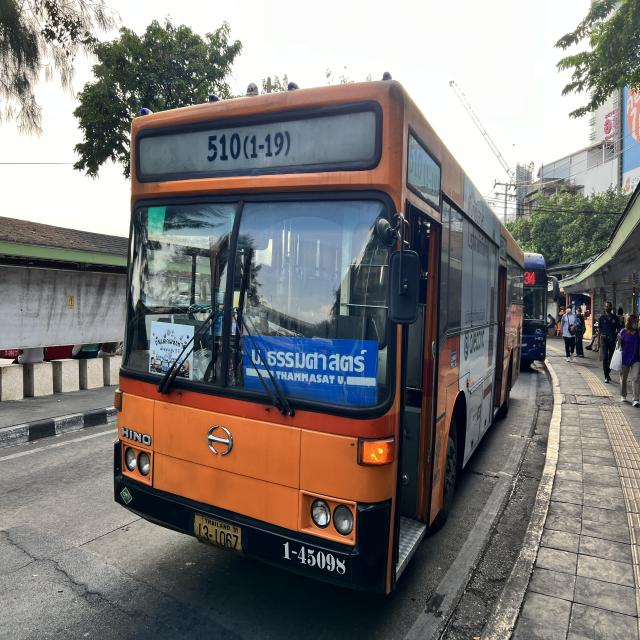BMTA-bus: (111, 79, 526, 597)
Bus Line Number: (196, 123, 301, 165)
Bus Side Number: (279, 534, 349, 577)
Destination Sign: (242, 332, 380, 414)
TSB-Bus: (521, 248, 551, 372)
